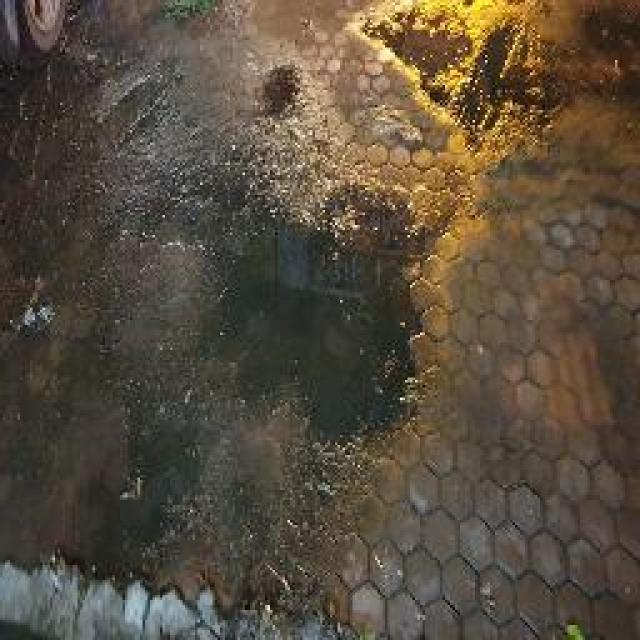puddle: (211, 216, 432, 445)
